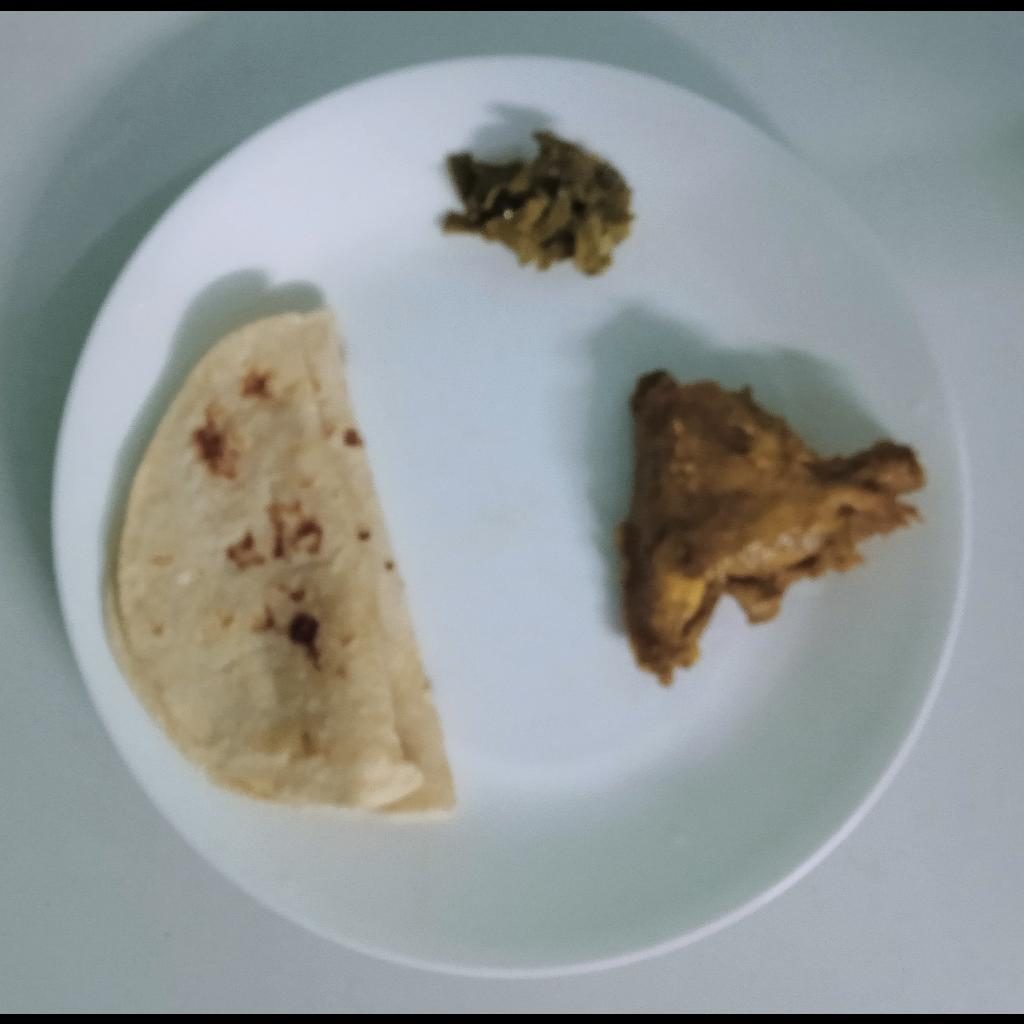chicken: (614, 366, 929, 687)
ruti: (105, 310, 464, 821)
shim: (438, 129, 633, 275)
